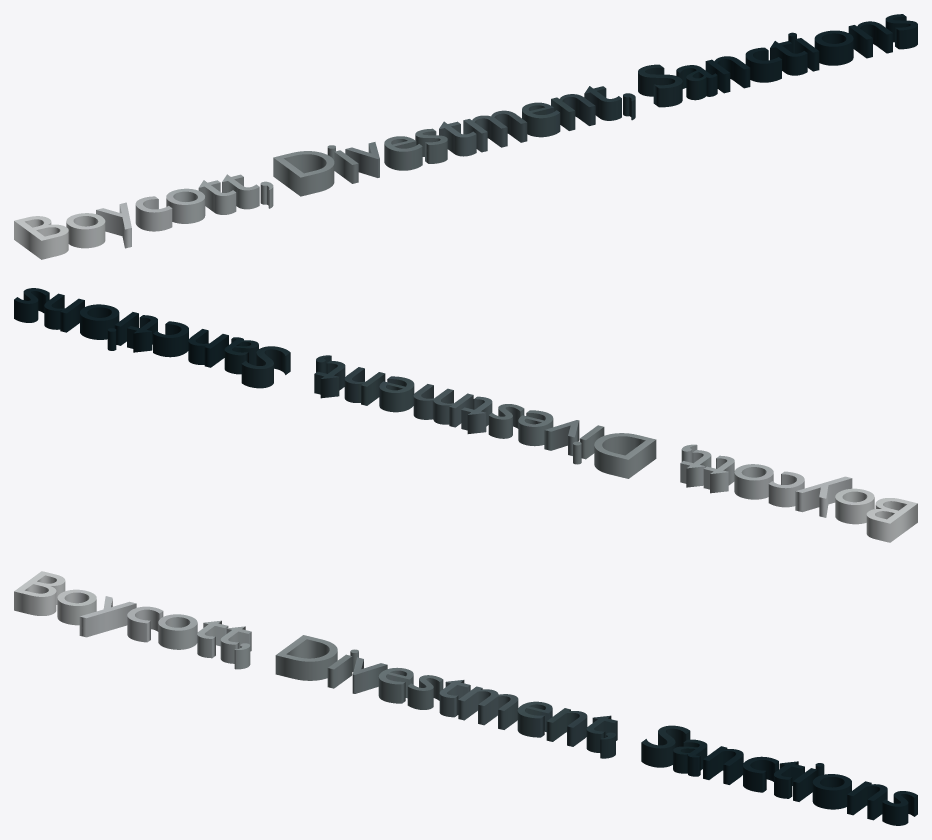
3 renders of one model, top to bottom at view 1: azimuth 30°, elevation 25°; view 2: azimuth 150°, elevation 25°; view 3: azimuth 330°, elevation 25°, orthographic.
Parts seen in each view (by area): view 1: 文字.008; view 2: 文字.008; view 3: 文字.008.
Boxes of the visible parts, bbox=[...] form: 文字.008: bbox=[14, 14, 917, 259]; 文字.008: bbox=[14, 288, 917, 542]; 文字.008: bbox=[14, 571, 917, 825].
Size of the model in its own units: 12.59 by 0.26 by 0.921.
1 material, 1 textured.
